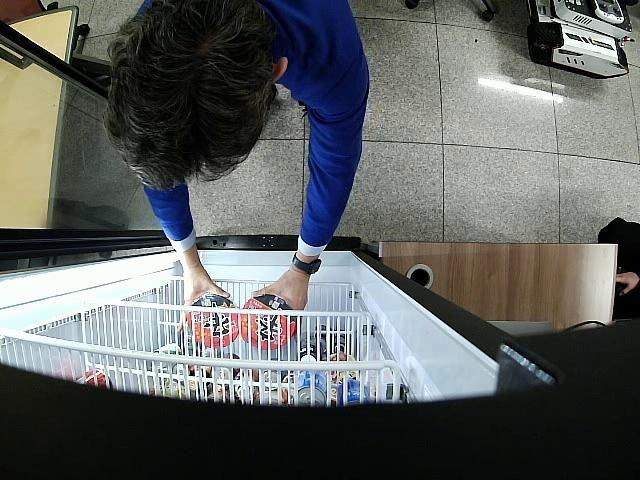01_ShinRamen_L: (240, 294, 298, 348), (187, 292, 239, 347)
